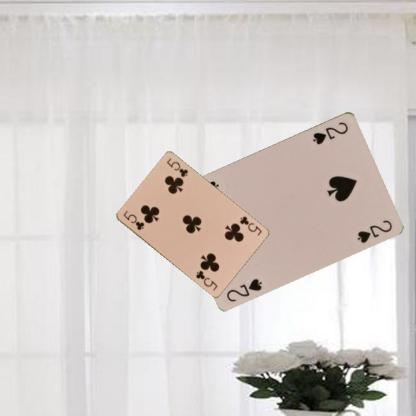2s: (310, 119, 350, 146), (224, 275, 264, 302)
5c: (237, 213, 263, 237), (121, 208, 145, 232)
